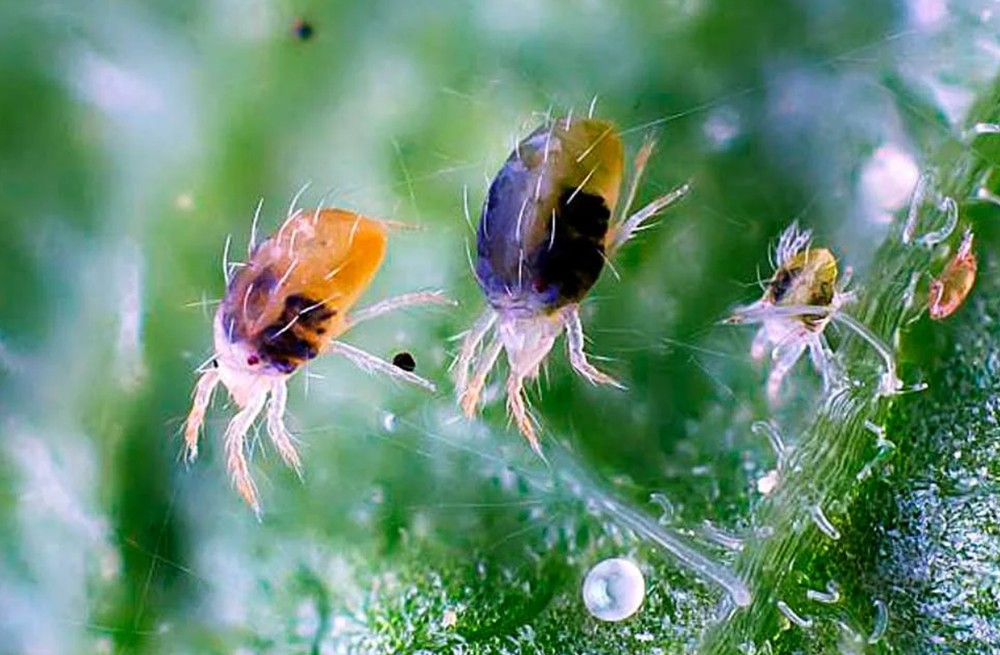Aracnido Rojo: (429, 92, 690, 447), (167, 174, 447, 468), (732, 216, 859, 376)
